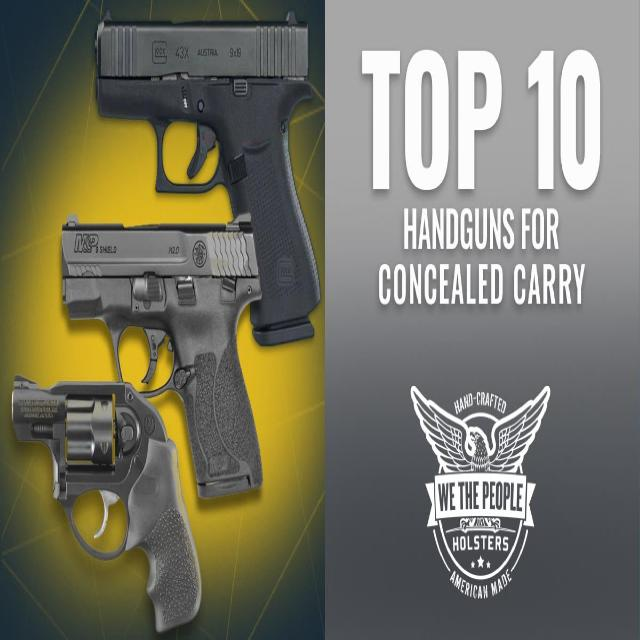HandGun: (95, 11, 321, 346), (61, 213, 263, 500), (12, 376, 202, 634)
